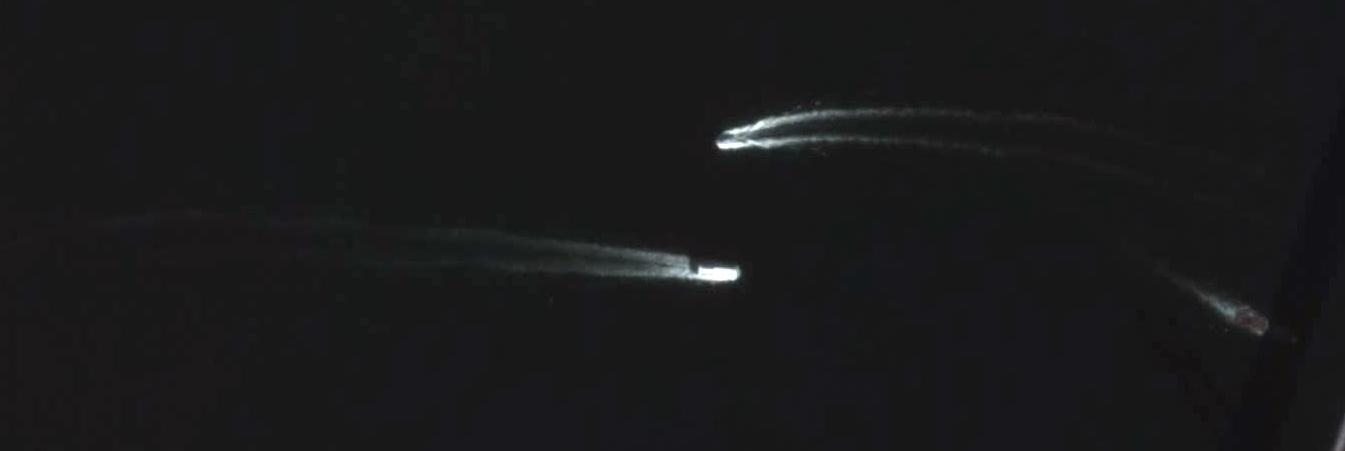person: (1233, 307, 1270, 336), (698, 267, 738, 282), (717, 132, 737, 143)
